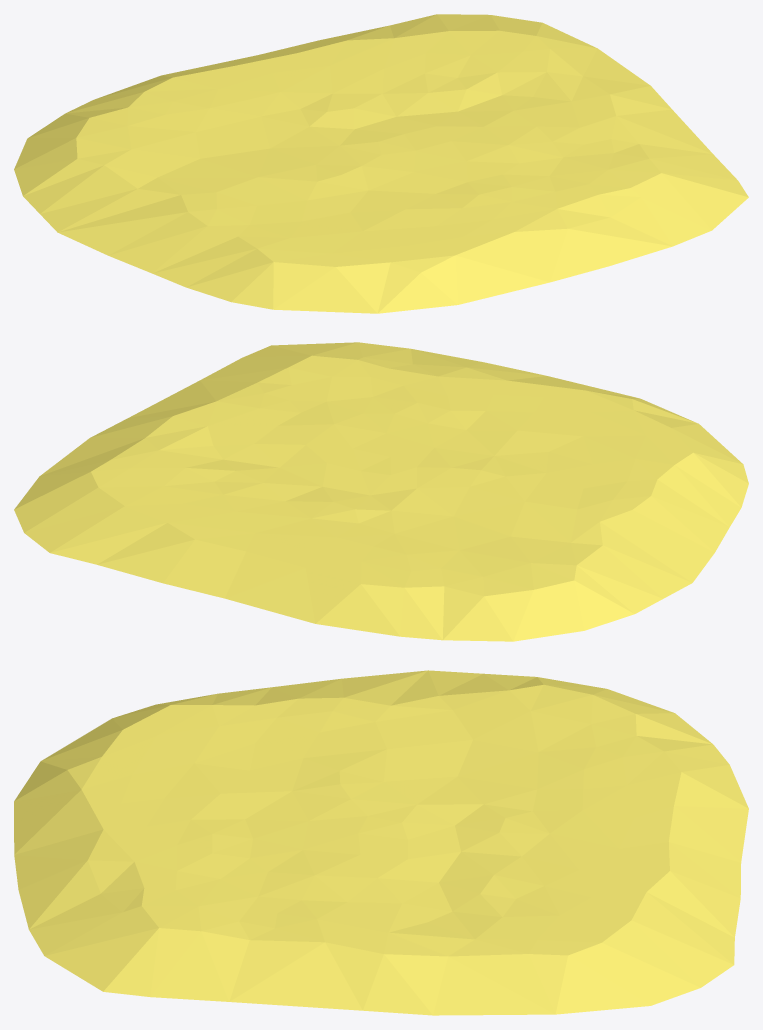
Rendered from Hill_021.glb.
3 renders of one model, top to bottom at view 1: azimuth 30°, elevation 25°; view 2: azimuth 150°, elevation 25°; view 3: azimuth 270°, elevation 25°, orthographic. The views are drawn at different scales.
Visible parts, largest first — view 1: Hill_021; view 2: Hill_021; view 3: Hill_021.
Part boxes in pixels (x1,y1,x2,y2): Hill_021: (14,14,748,313); Hill_021: (14,342,748,641); Hill_021: (14,670,748,1015).
Size of the model in its own units: 6.73 by 0.2646 by 6.06.
Materials: 1 (1 with a texture image).
